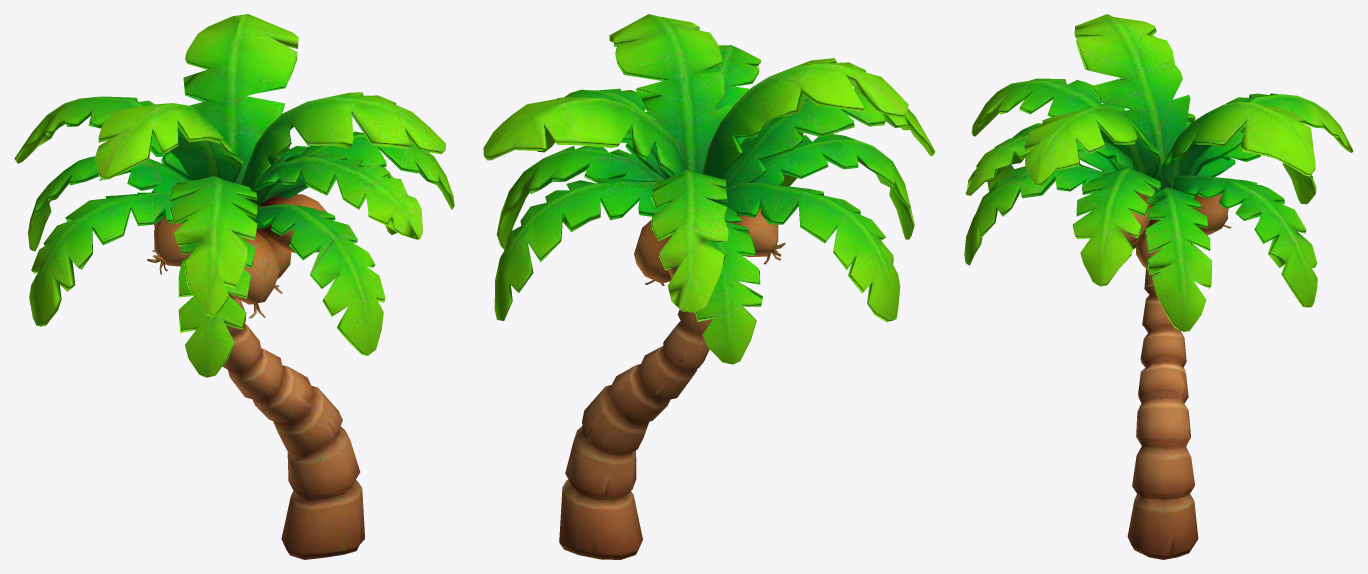
File: env_palm.glb
3 renders of one model, left to right at view 1: azimuth 30°, elevation 25°; view 2: azimuth 150°, elevation 25°; view 3: azimuth 270°, elevation 25°, orthographic. The views are drawn at different scales.
Visible parts, largest first — view 1: geometry_0; view 2: geometry_0; view 3: geometry_0.
Part boxes in pixels (bbox=[...]): geometry_0: bbox=[14, 14, 454, 559]; geometry_0: bbox=[483, 14, 935, 559]; geometry_0: bbox=[964, 14, 1353, 559].
Size of the model in its own units: 0.7617 by 0.9521 by 0.7593.
1 material, 1 textured.
